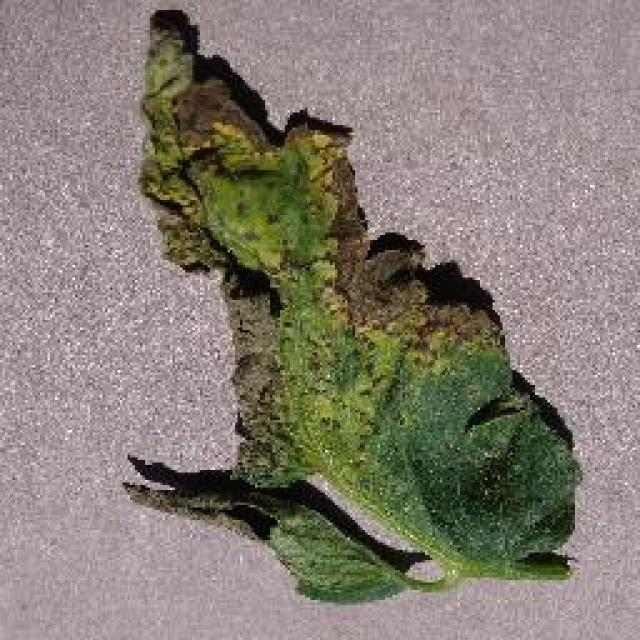Tomato___Septoria_leaf_spot: (122, 10, 580, 600)
